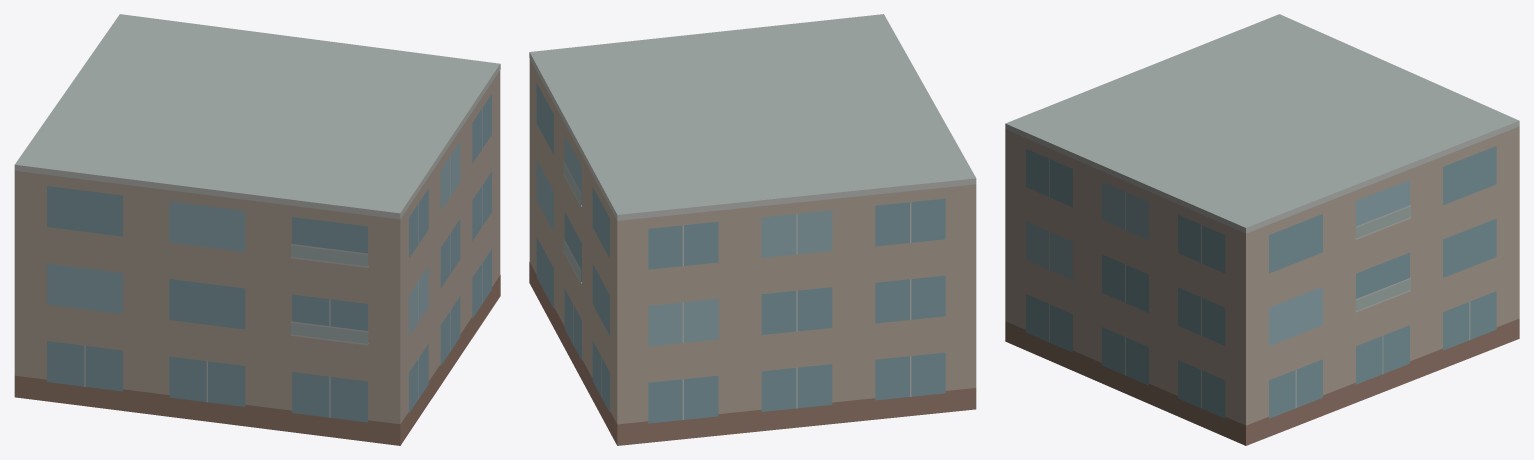
Rendered from survey-upis-32603721.glb.
The picture shows the model from 3 angles, left to right: view 1: azimuth 30°, elevation 25°; view 2: azimuth 150°, elevation 25°; view 3: azimuth 270°, elevation 25°; orthographic projection. The views are drawn at different scales.
Parts seen in each view (by area): view 1: survey-upis-32603721.tmp; view 2: survey-upis-32603721.tmp; view 3: survey-upis-32603721.tmp.
Part boxes in pixels (box(x1,y1,x2,y2)): survey-upis-32603721.tmp: box(14, 14, 500, 445); survey-upis-32603721.tmp: box(529, 14, 976, 445); survey-upis-32603721.tmp: box(1005, 14, 1519, 445).
Bounding box in the file's own units: 20.01 × 9.5 × 20.33.
